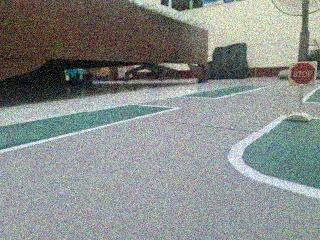stop: (288, 58, 320, 87)
